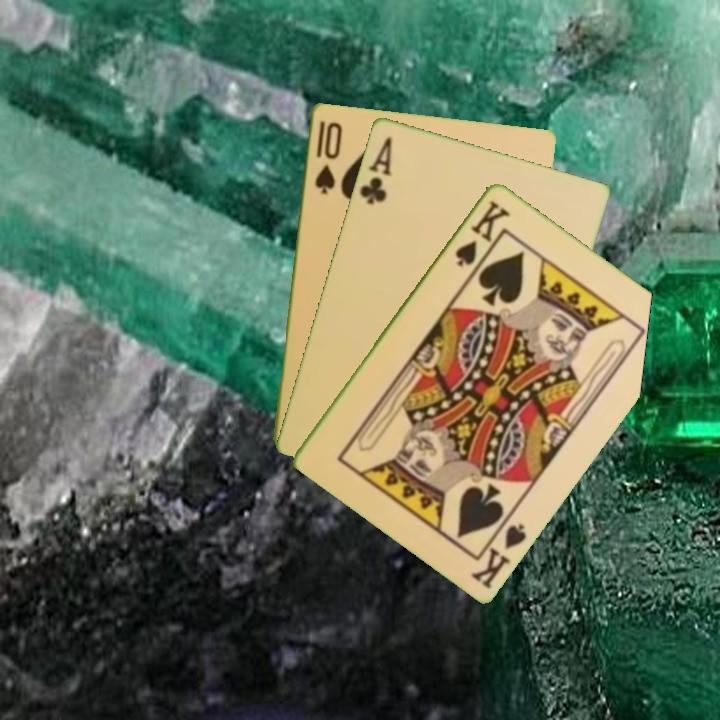10s: (311, 117, 345, 197)
Ac: (355, 132, 395, 208)
Ks: (467, 509, 530, 592), (451, 195, 513, 269)
